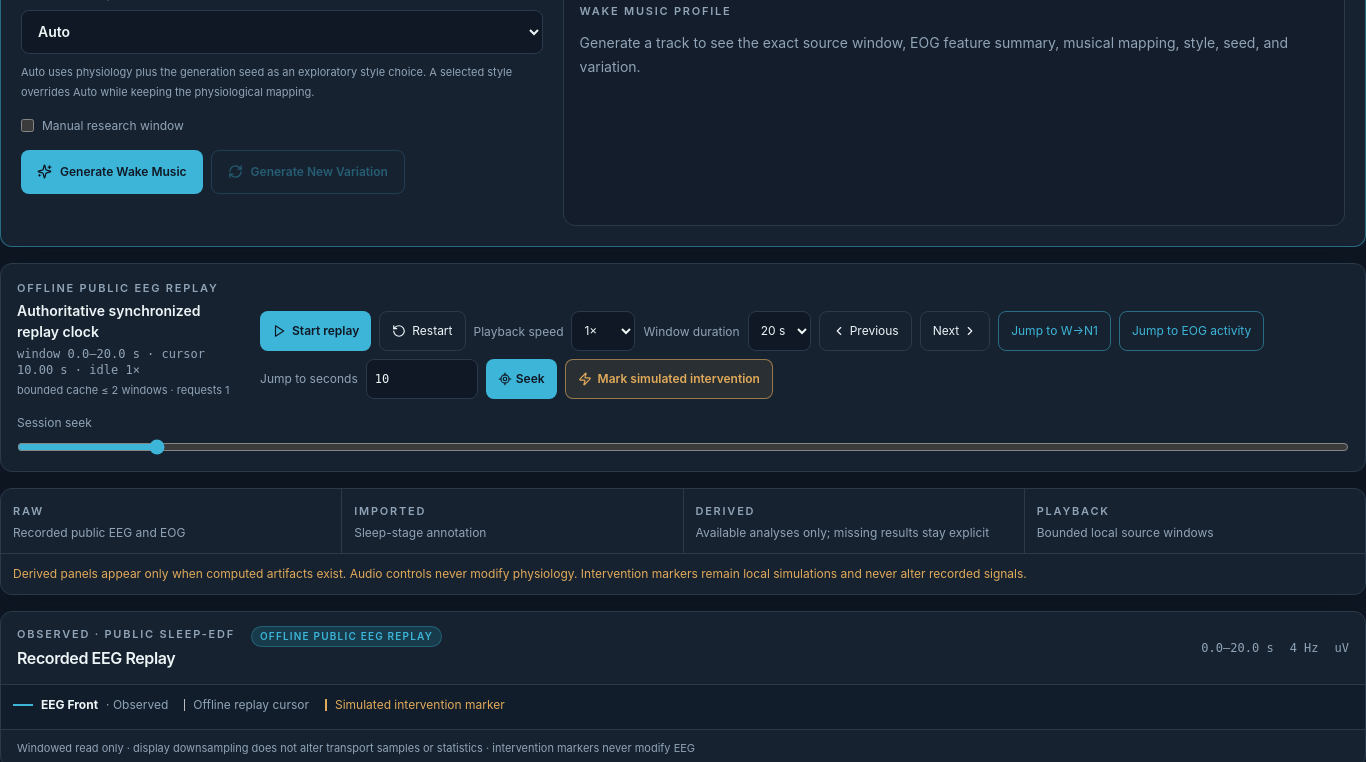
Test: Eye Movement primary viewer integration › updates candidates and shared cursor after seek and exposes outside coverage
(page scrolled)
Replace the text in the number field labelled "Jump to seconds" with "13": [422, 378] box [366,358,478,398]
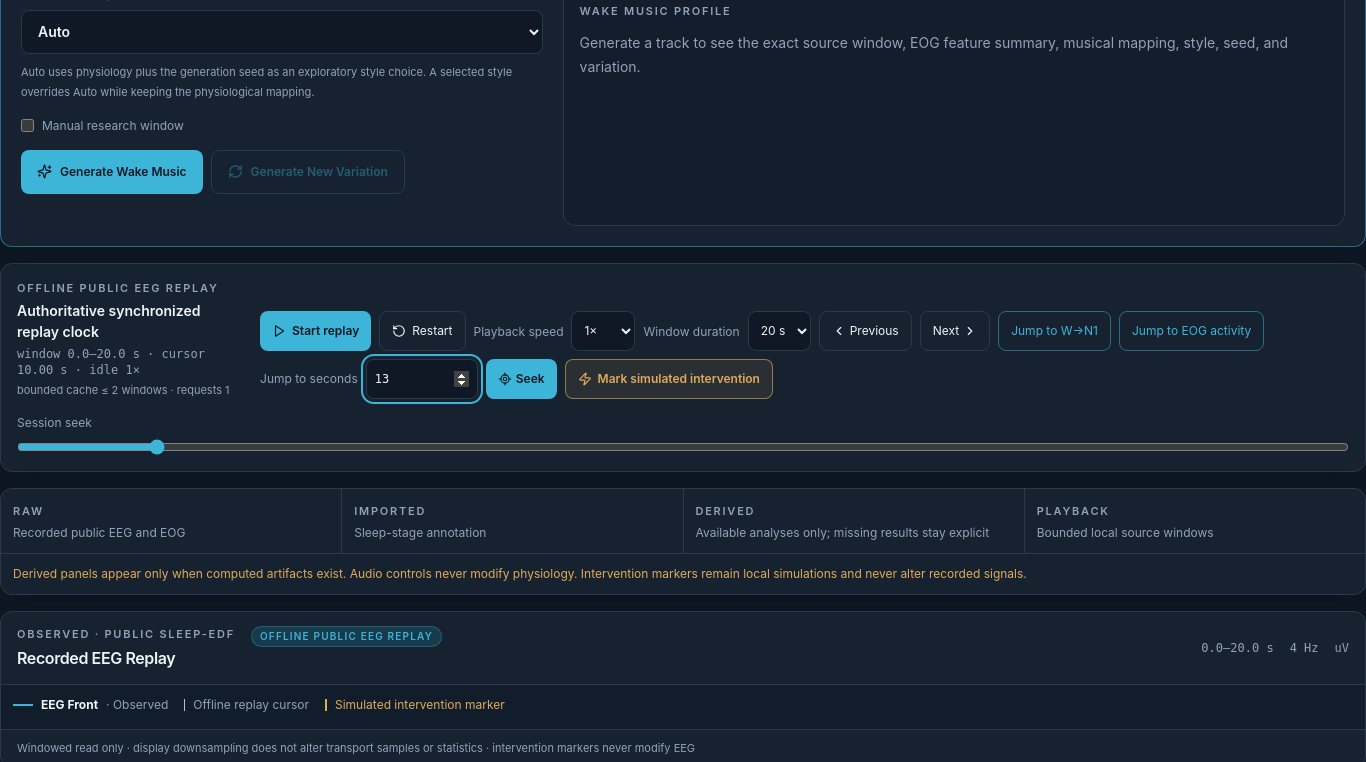
Click the button "Seek": [521, 378] box [486,358,557,398]
(page scrolled)
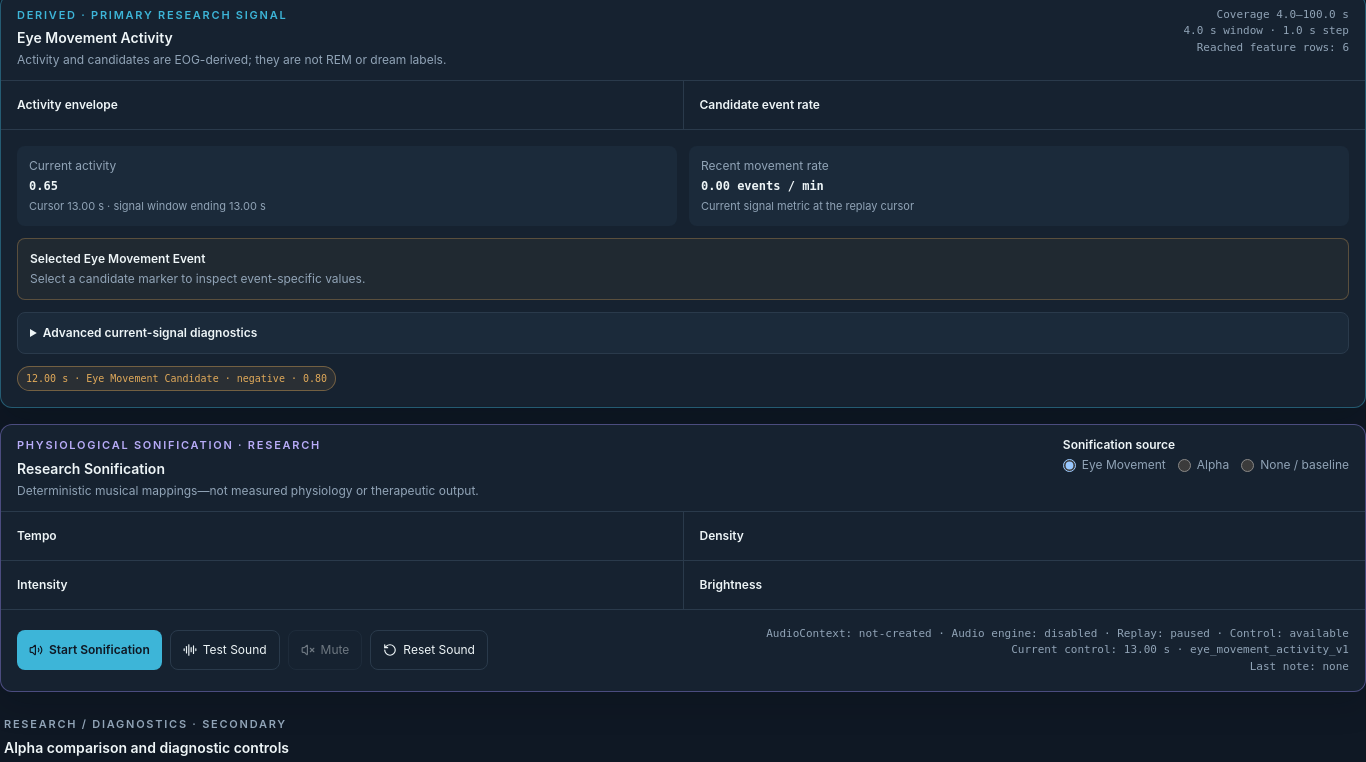
expect the button "12.00 s · Eye Movement Candidate · negative · 0.80" is shown: met
Click the button "12.00 s · Eye Movement Candidate · negative · 0.80": [177, 378] box [17,366,336,391]
(page scrolled)
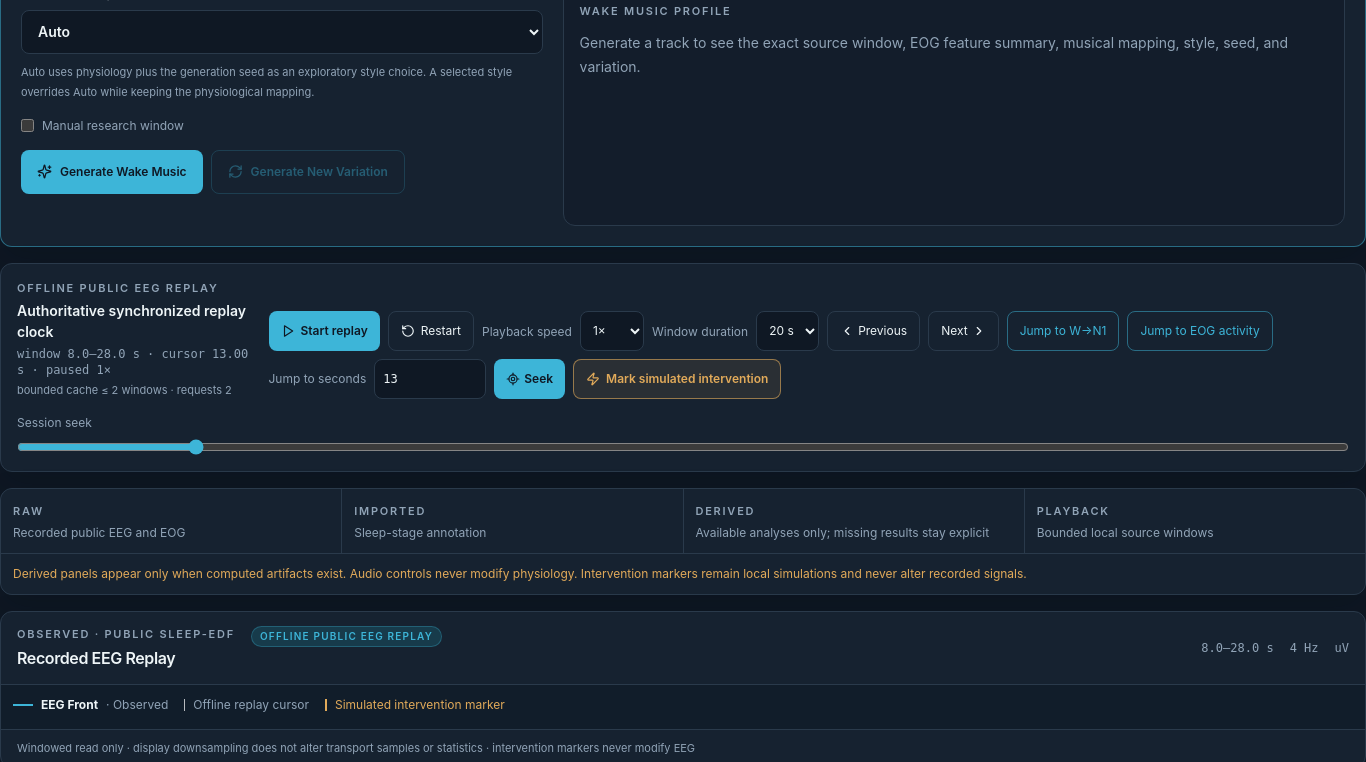
Replace the text in the number field labelled "Jump to seconds" with "2": [430, 378] box [374,358,486,398]
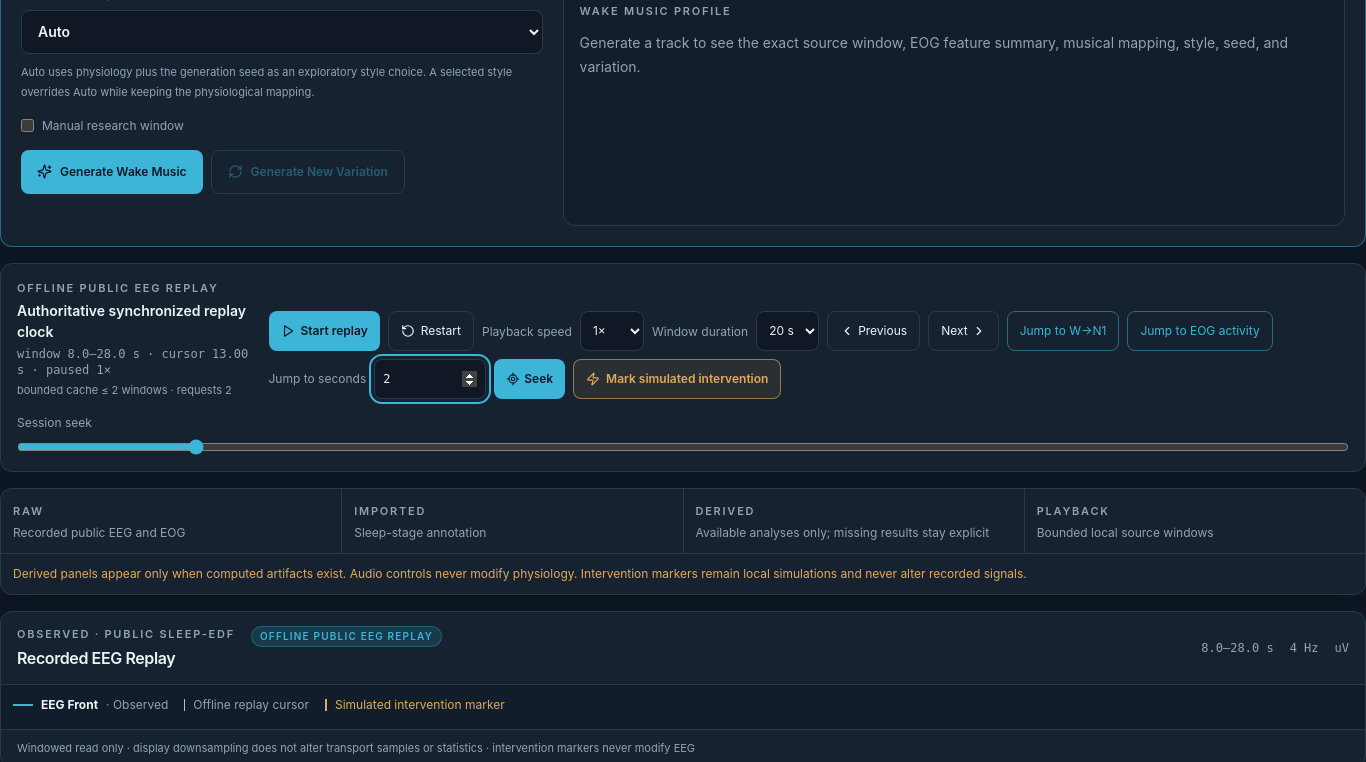
Click the button "Seek": [530, 378] box [494,358,565,398]
(page scrolled)
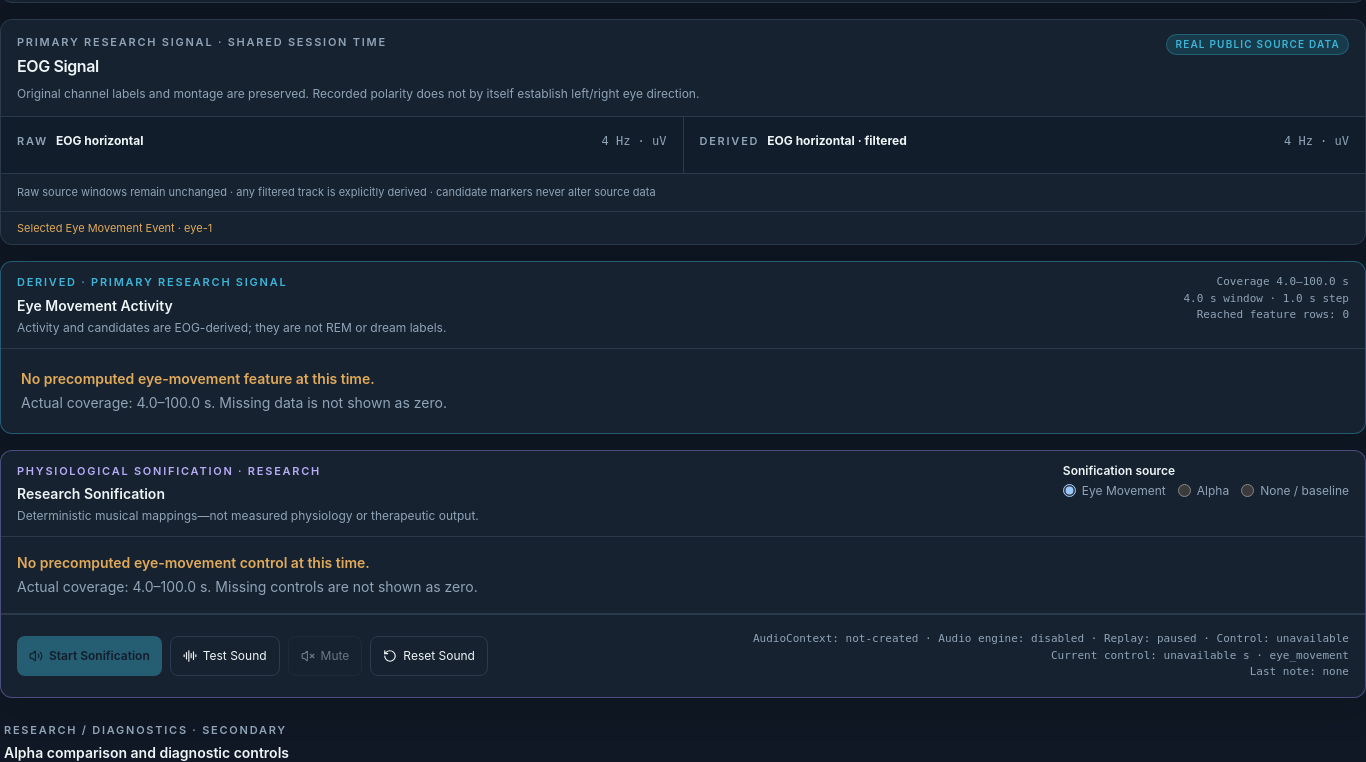
expect the text "No precomputed eye-movement feature at this time." is shown: met, box [21,370,375,386]
